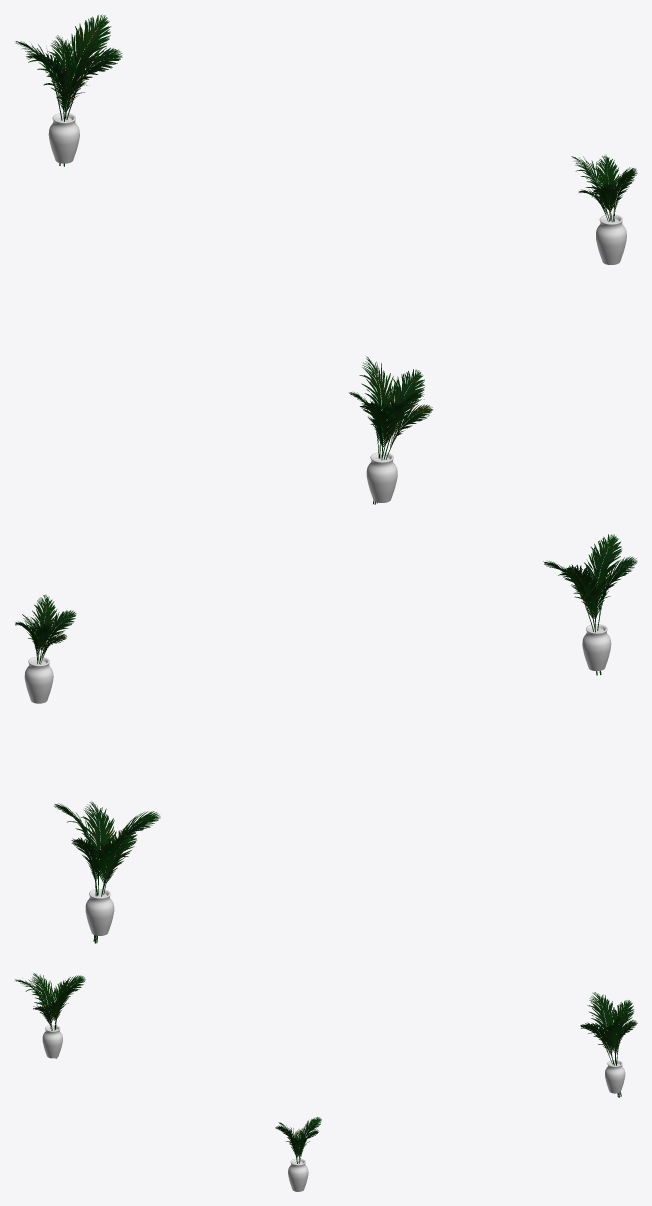
File: VASE2.glb
3 renders of one model, top to bottom at view 1: azimuth 30°, elevation 25°; view 2: azimuth 150°, elevation 25°; view 3: azimuth 270°, elevation 25°, orthographic. The views are drawn at different scales.
Parts seen in each view (by area): view 1: 2-VASE2; view 2: 2-VASE2; view 3: 2-VASE2.
Part boxes in pixels (x1=…): 2-VASE2: x1=15, y1=14, x2=637, y2=504; 2-VASE2: x1=15, y1=534, x2=637, y2=943; 2-VASE2: x1=14, y1=973, x2=637, y2=1191.
Size of the model in its own units: 11.54 by 3.35 by 20.27.
